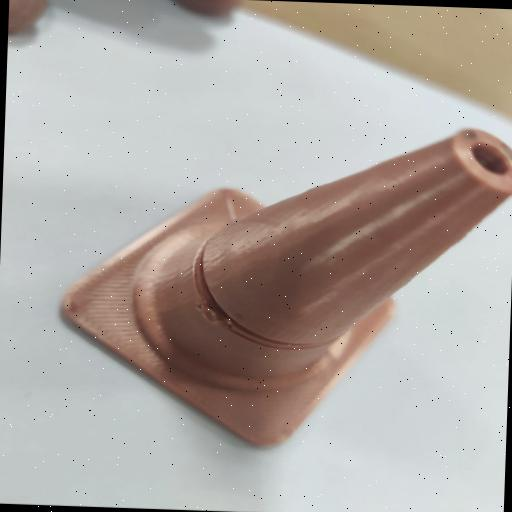cracks: (176, 246, 334, 358)
